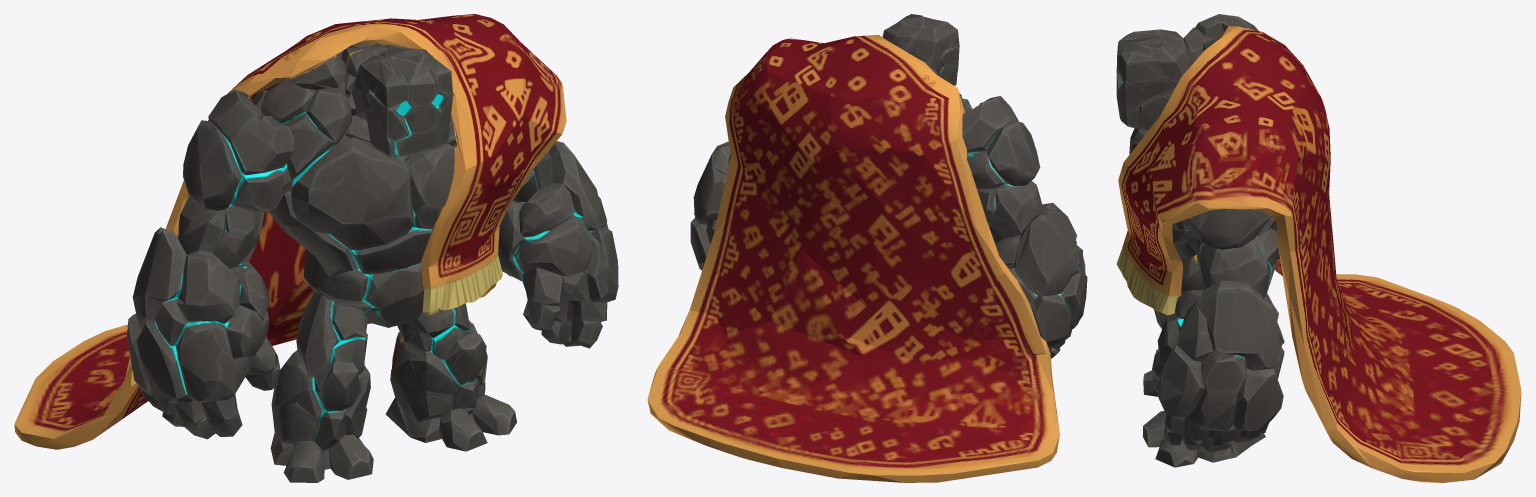
Rendered from canyon.glb.
3 renders of one model, left to right at view 1: azimuth 30°, elevation 25°; view 2: azimuth 150°, elevation 25°; view 3: azimuth 270°, elevation 25°, orthographic. The views are drawn at different scales.
Bounding box in the file's own units: 1.9 × 1.45 × 1.42.
1 material, 1 textured.
